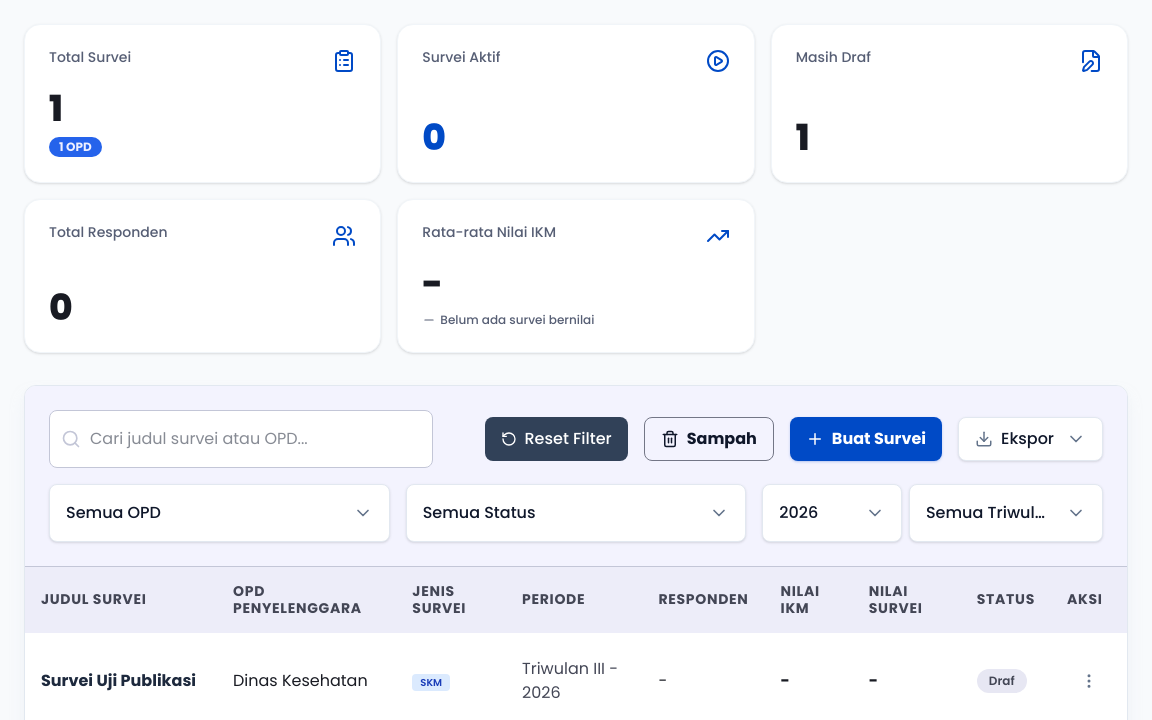
Test: Umpan balik aksi survei (TC-FE-006) › menyebut apa yang terjadi, bukan sekadar "berhasil"
Check: the text "Survei Uji Publikasi" is shown, box [41,669,201,693]
Click the button named "aksi untuk". click: {"x": 1089, "y": 681}
box: [1067,659,1111,703]
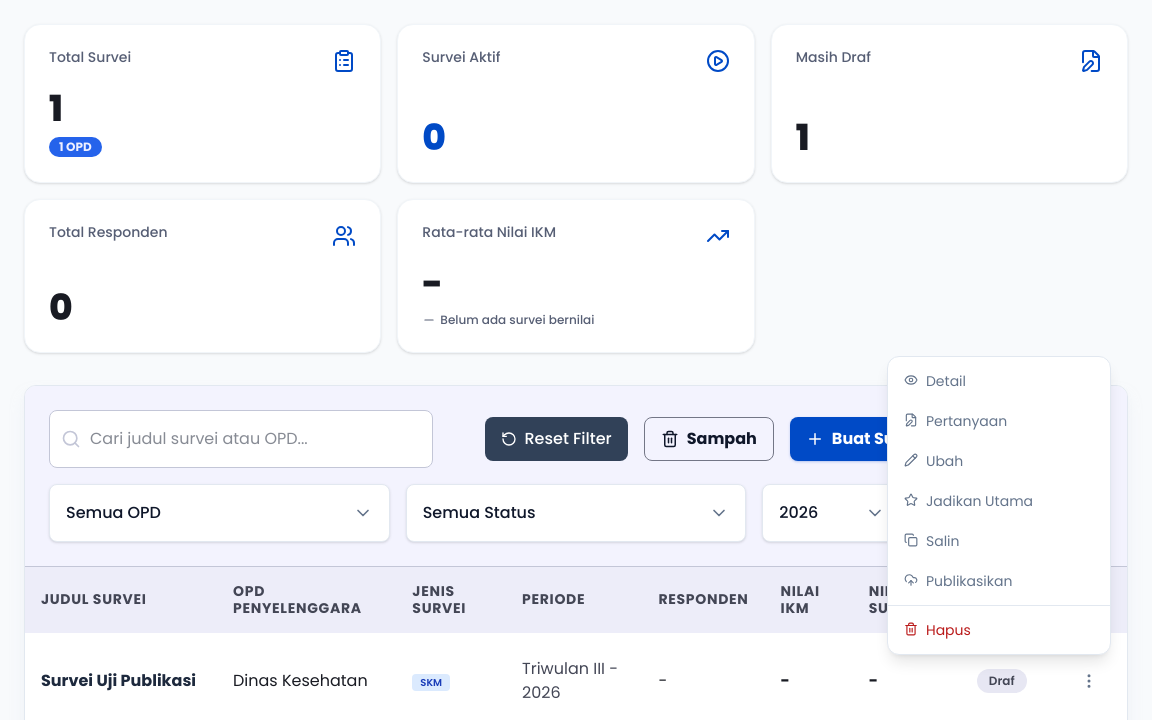
Click the menu item "Publikasikan". click: {"x": 999, "y": 581}
box: [888,561,1110,601]
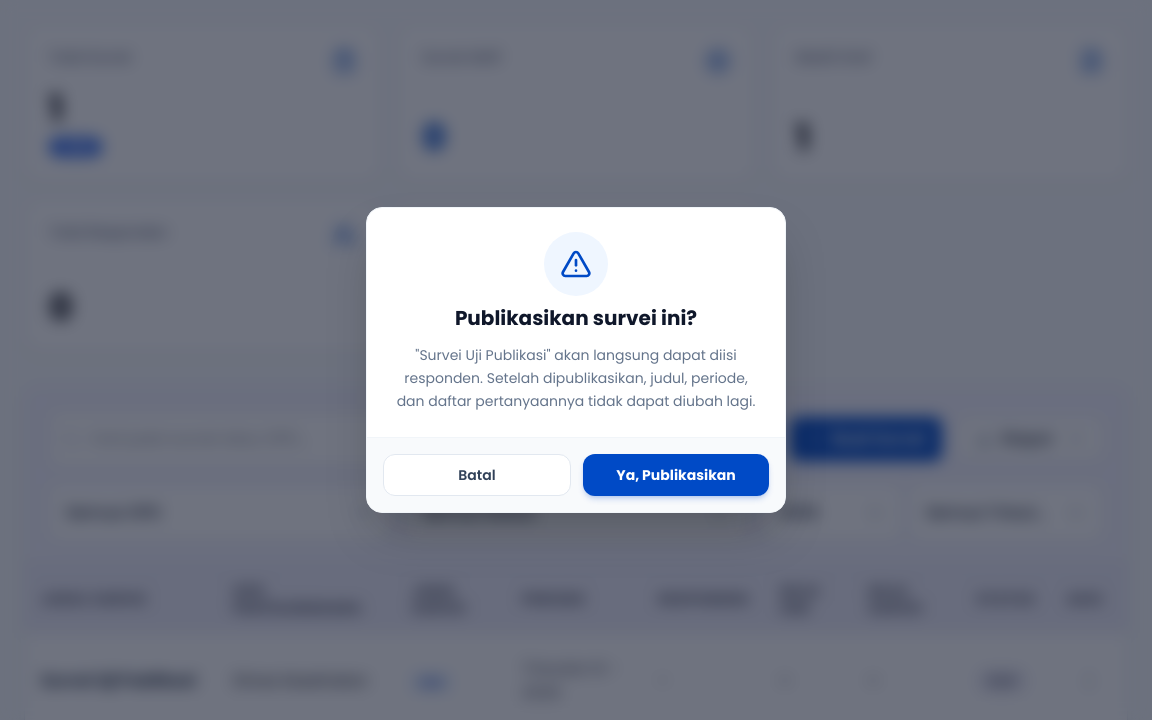
Click the button "Ya, Publikasikan". click: {"x": 676, "y": 475}
box: [583,454,769,496]
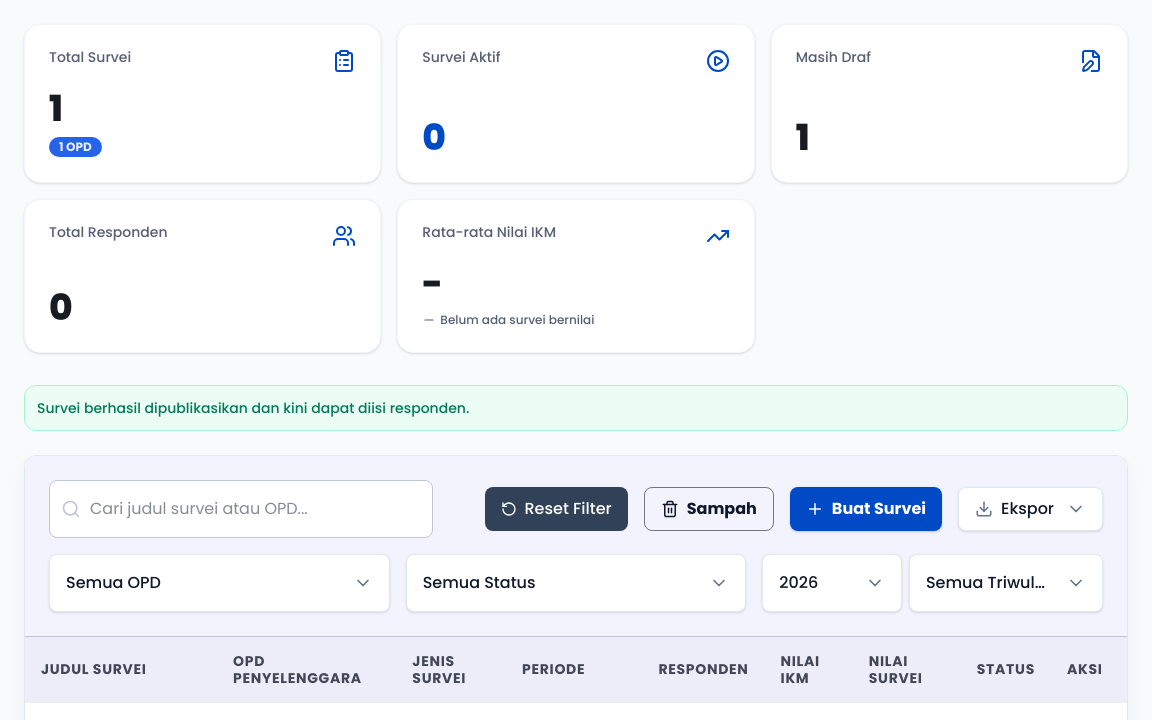
Check: the text "berhasil dipublikasikan dan kini dapat diisi responden" is shown, box [37,398,469,418]
